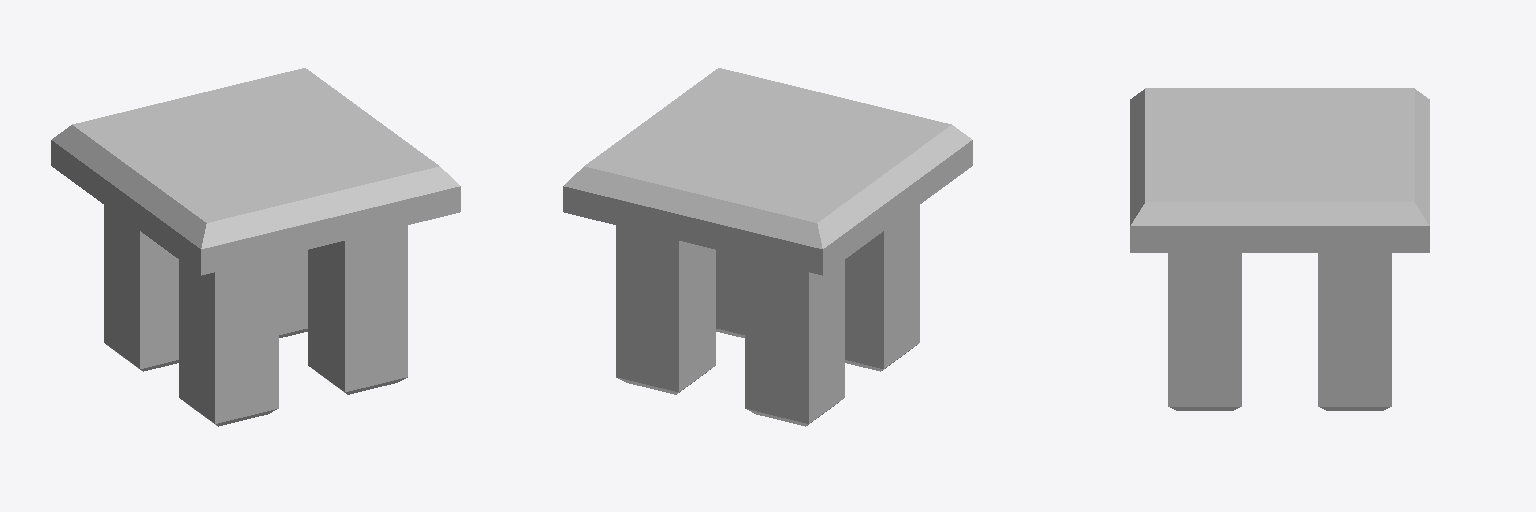
Rendered from Chair 2.obj.
3 views of the same model, side by side, from view 1: azimuth 30°, elevation 25°; view 2: azimuth 150°, elevation 25°; view 3: azimuth 270°, elevation 25° (orthographic).
Parts seen in each view (by area): view 1: Cube.001, Cube; view 2: Cube.001, Cube; view 3: Cube.001, Cube.
Boxes of the visible parts, x1=… form: Cube.001: x1=51, y1=68, x2=460, y2=275; Cube: x1=104, y1=205, x2=430, y2=426; Cube.001: x1=563, y1=68, x2=972, y2=275; Cube: x1=616, y1=205, x2=919, y2=426; Cube.001: x1=1130, y1=88, x2=1429, y2=252; Cube: x1=1168, y1=253, x2=1391, y2=410.
Bounding box in the file's own units: 2 × 1.63 × 2.